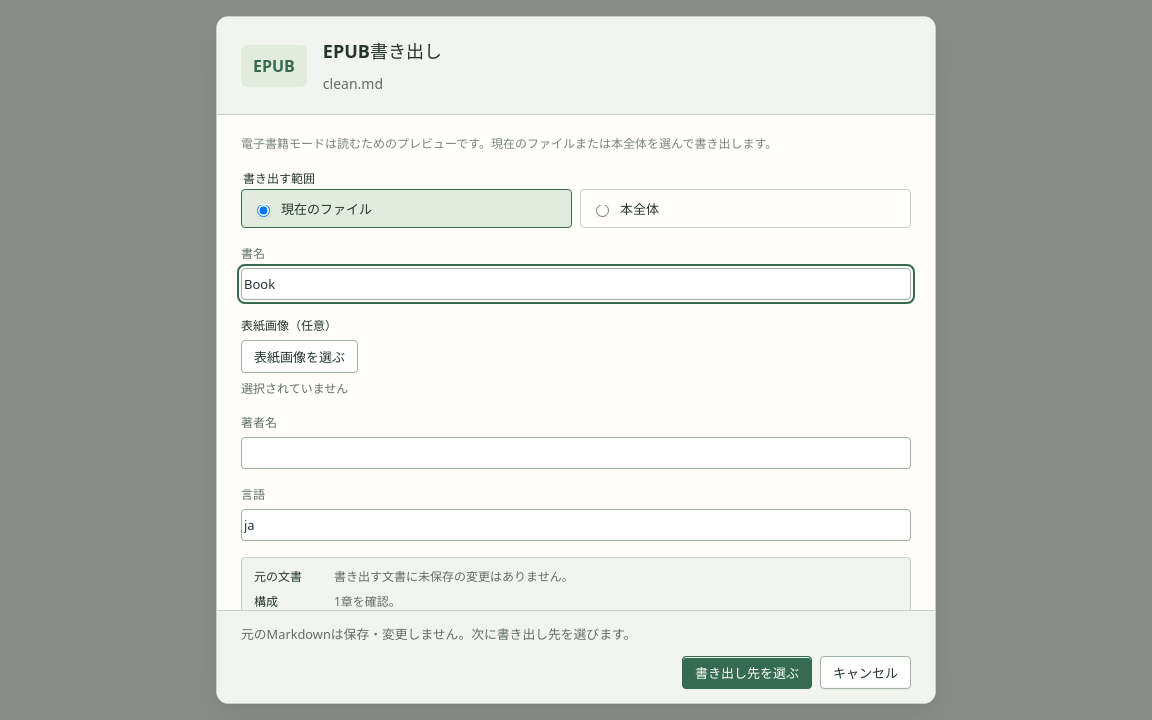
Test: EpubExportSettingsDialog › uses the selected scope's unsaved-change summary
Expected: the text "書き出す文書に未保存の変更はありません。" is shown, [334,568,574,585]
Click the radio button labelled "本全体".
click(602, 210)  # box [596,204,609,216]
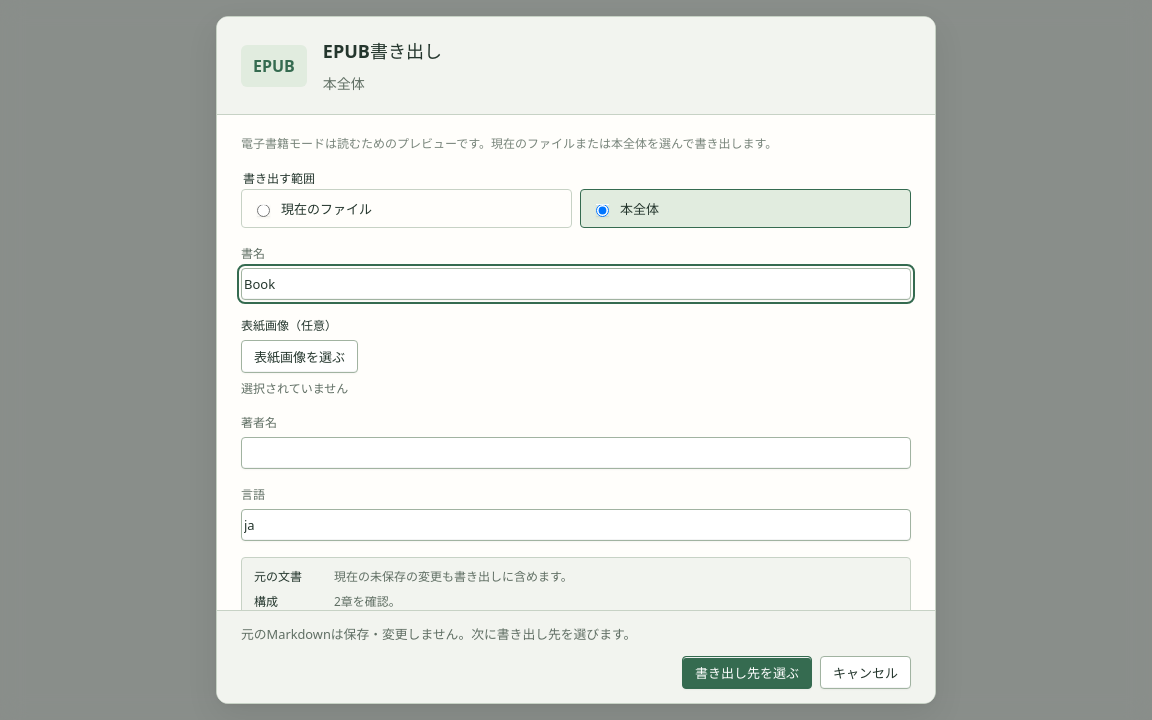
Now the text "現在の未保存の変更も書き出しに含めます。" is shown, box [334,568,573,585]
Click the radio button labelled "現在のファイル".
click(264, 210)  # box [257,204,270,216]
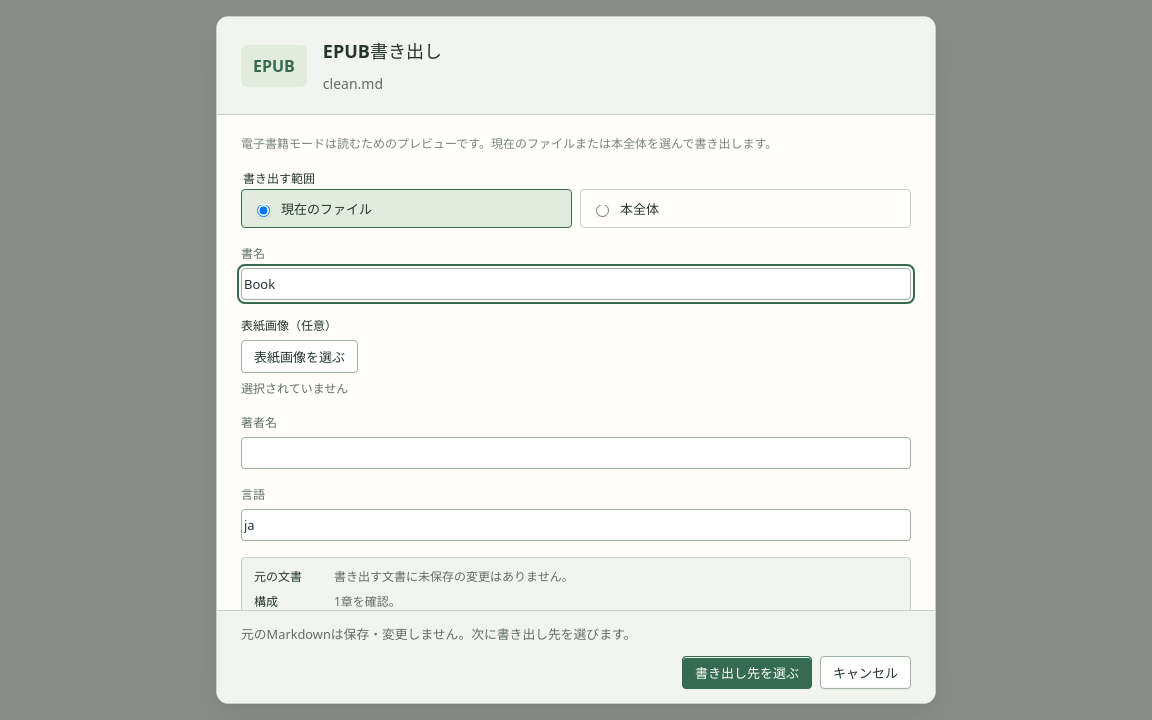
Now the text "書き出す文書に未保存の変更はありません。" is shown, box [334,568,574,585]
